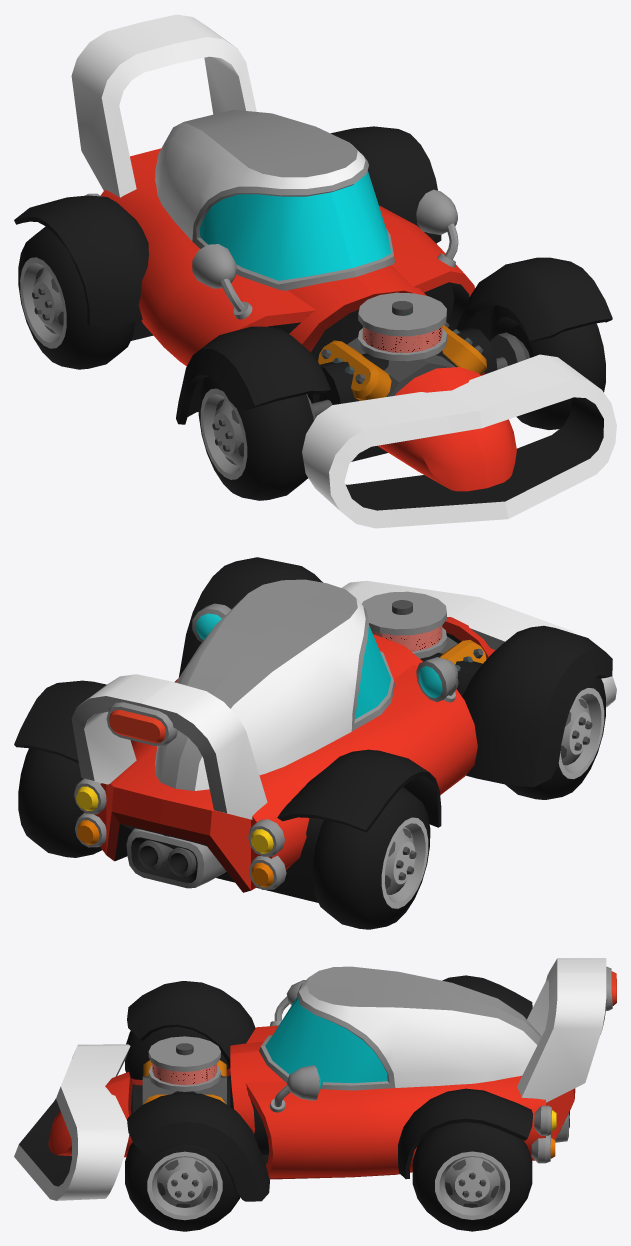
The model's file is VEH18-A.fbx.
The picture shows the model from 3 angles, top to bottom: view 1: azimuth 30°, elevation 25°; view 2: azimuth 150°, elevation 25°; view 3: azimuth 270°, elevation 25°; orthographic projection. The views are drawn at different scales.
Parts seen in each view (by area): view 1: VEH18_A, V18A_Wheel_FR, V18A_Wheel_BR, V18A_Wheel_FL; view 2: VEH18_A, V18A_Wheel_BR, V18A_Wheel_BL, V18A_Wheel_FR; view 3: VEH18_A, V18A_Wheel_BL, V18A_Wheel_FL, V18A_Wheel_FR.
Part boxes in pixels (x1=…): VEH18_A: x1=14, y1=14, x2=616, y2=528; V18A_Wheel_FR: x1=198, y1=377, x2=332, y2=500; V18A_Wheel_BR: x1=18, y1=226, x2=135, y2=369; V18A_Wheel_FL: x1=488, y1=305, x2=605, y2=429; VEH18_A: x1=14, y1=557, x2=616, y2=902; V18A_Wheel_BR: x1=312, y1=787, x2=430, y2=929; V18A_Wheel_BL: x1=18, y1=740, x2=130, y2=857; V18A_Wheel_FR: x1=505, y1=677, x2=605, y2=799; VEH18_A: x1=14, y1=958, x2=616, y2=1201; V18A_Wheel_BL: x1=412, y1=1122, x2=532, y2=1231; V18A_Wheel_FL: x1=125, y1=1142, x2=240, y2=1231; V18A_Wheel_FR: x1=125, y1=1027, x2=229, y2=1079.
Bounding box in the file's own units: 262 × 162 × 448.
Materials: 1 (1 with a texture image).
